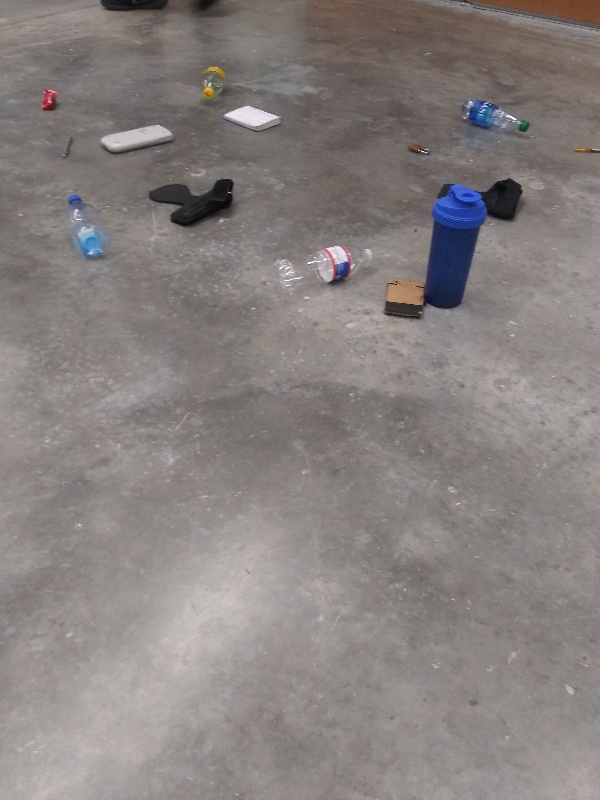bottle: (269, 243, 377, 293), (63, 192, 113, 263), (455, 95, 534, 139), (197, 58, 229, 104)
